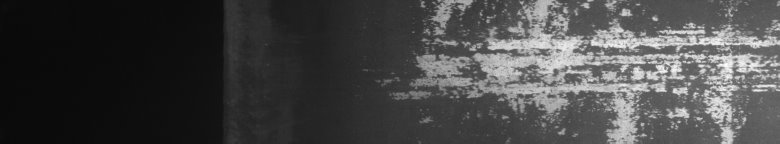kb: (440, 4, 776, 136)
